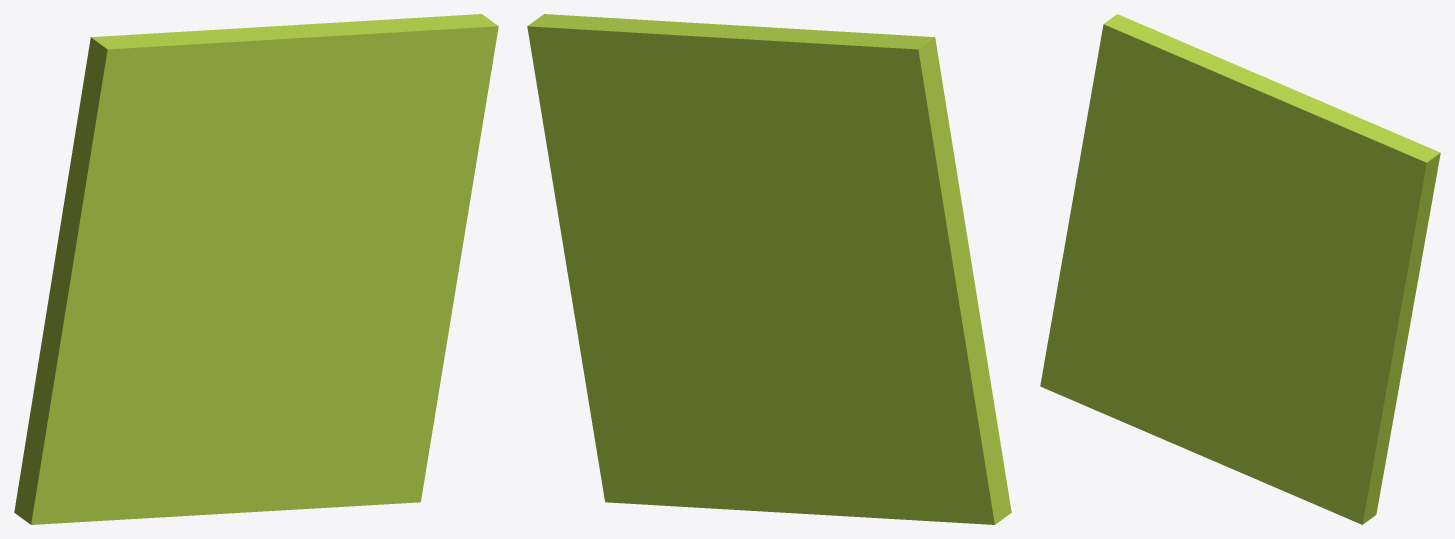
3 renders of one model, left to right at view 1: azimuth 30°, elevation 25°; view 2: azimuth 150°, elevation 25°; view 3: azimuth 330°, elevation 25°, orthographic. The views are drawn at different scales.
Parts seen in each view (by area): view 1: osm-way27917482-F0; view 2: osm-way27917482-F0; view 3: osm-way27917482-F0.
Boxes of the visible parts, <box> form: osm-way27917482-F0: <box>14,14,498,524</box>; osm-way27917482-F0: <box>527,14,1011,524</box>; osm-way27917482-F0: <box>1040,14,1440,524</box>.
Size of the model in its own units: 2.41 by 2.6 by 0.15.
